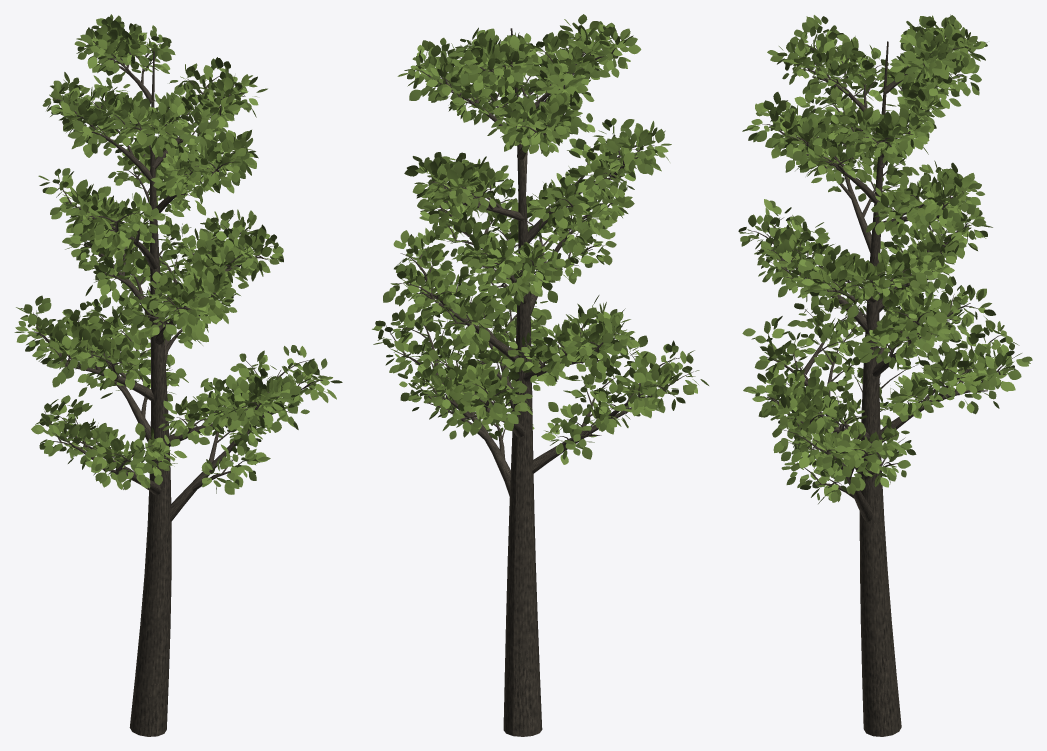
The model's file is upright_02_lod0.glb.
3 renders of one model, left to right at view 1: azimuth 30°, elevation 25°; view 2: azimuth 150°, elevation 25°; view 3: azimuth 270°, elevation 25°, orthographic. The views are drawn at different scales.
Parts seen in each view (by area): view 1: individual_folded_leaves, trunk_branches; view 2: individual_folded_leaves, trunk_branches; view 3: individual_folded_leaves, trunk_branches.
Boxes of the visible parts, bbox=[...] form: individual_folded_leaves: bbox=[14, 14, 342, 494]; trunk_branches: bbox=[33, 40, 322, 736]; individual_folded_leaves: bbox=[372, 14, 708, 464]; trunk_branches: bbox=[386, 28, 693, 736]; individual_folded_leaves: bbox=[738, 14, 1032, 503]; trunk_branches: bbox=[748, 32, 1015, 736].
Bounding box in the file's own units: 5.3 × 11.76 × 4.44.
Materials: 2 (1 with a texture image).
